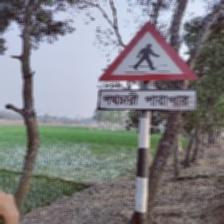Pedestrian-crossing: (97, 21, 200, 114)
